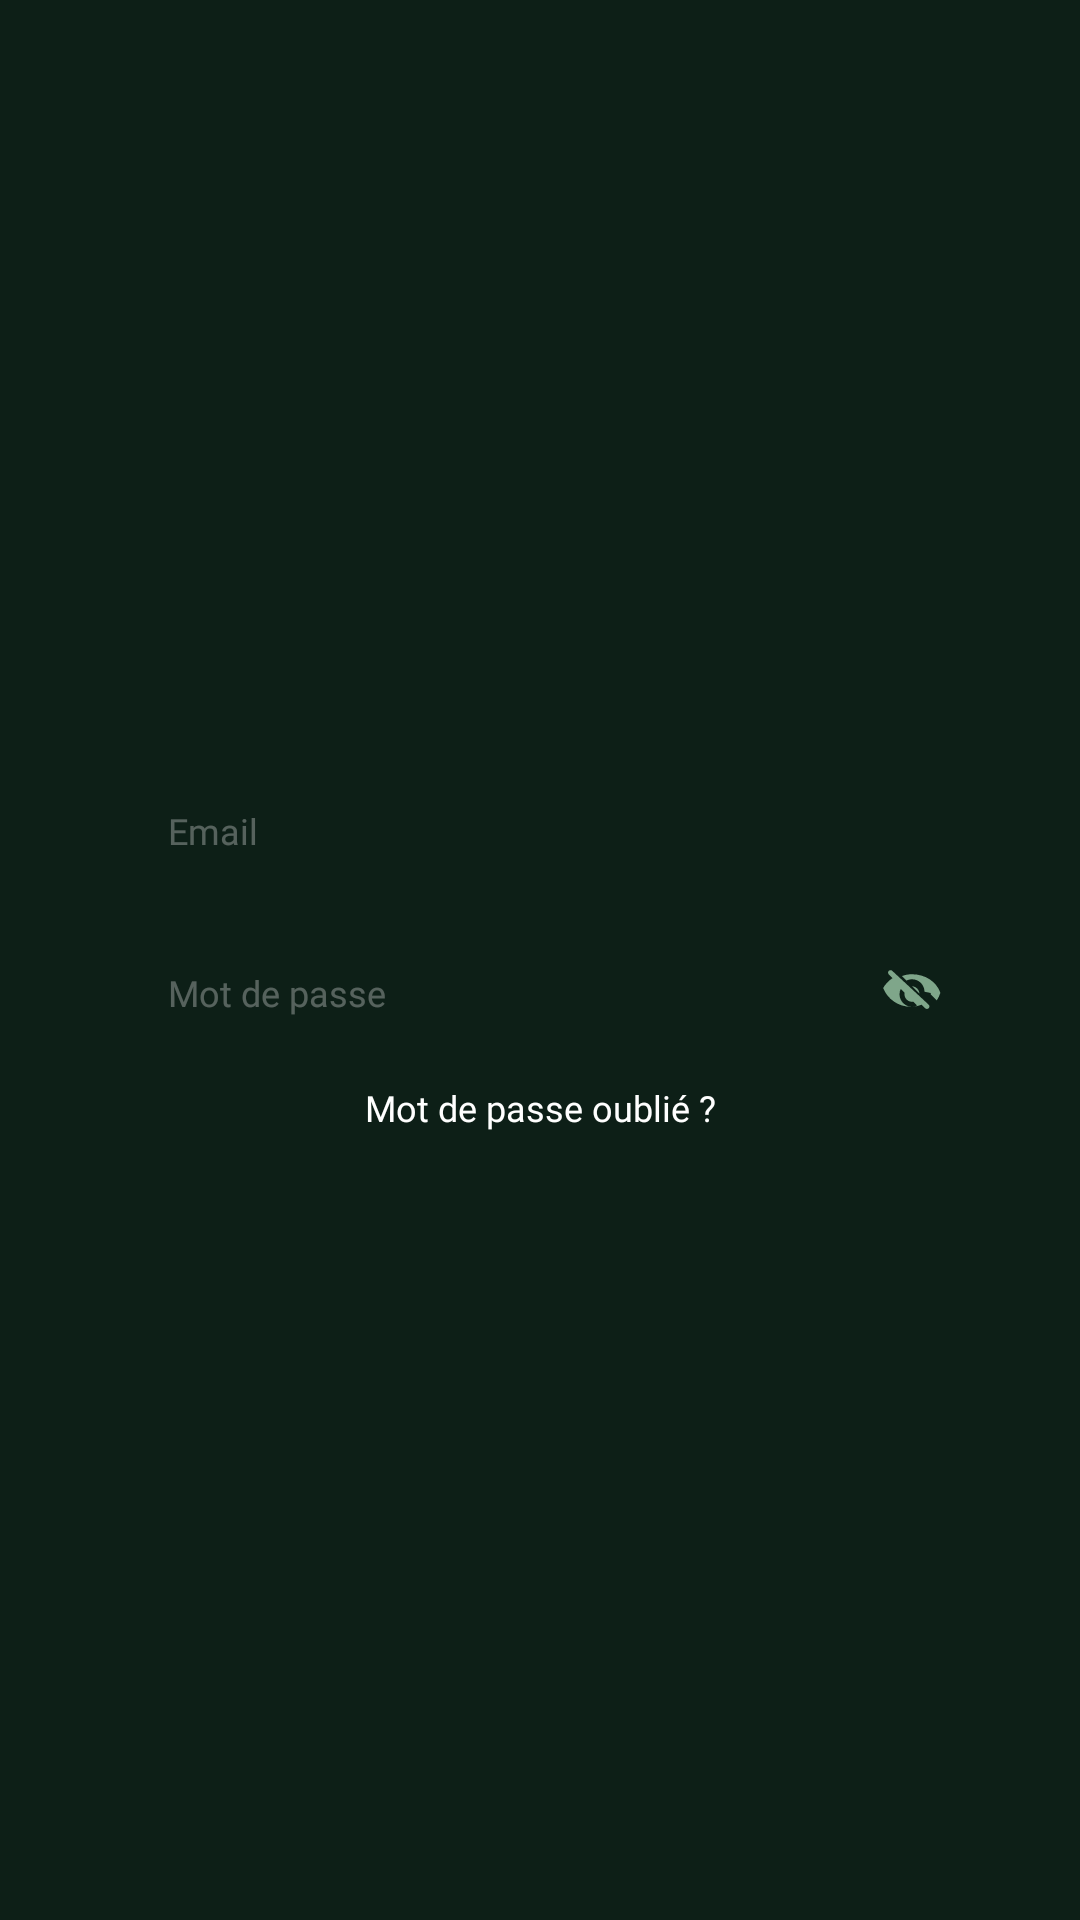

Screen size 1080w x 1920h. Icon name, then its box in pixels as (x1, y1, x2, y2):
eye closed: (883, 970, 941, 1009)
